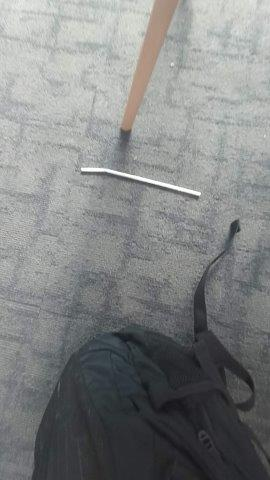sedotan: (80, 167, 202, 196)
